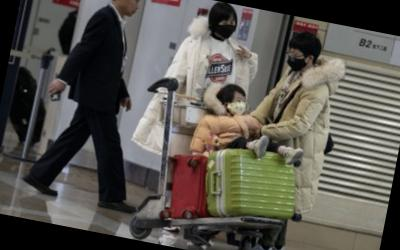with_mask: (284, 48, 310, 74), (215, 17, 239, 41), (227, 94, 249, 117)
